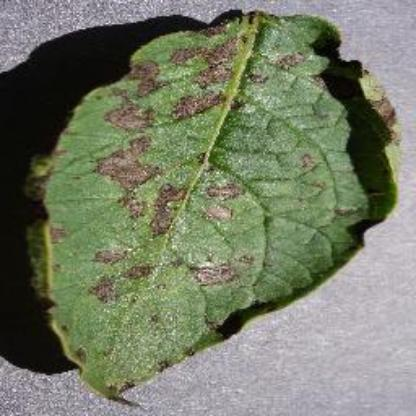Early-Blight: (22, 8, 404, 402)
